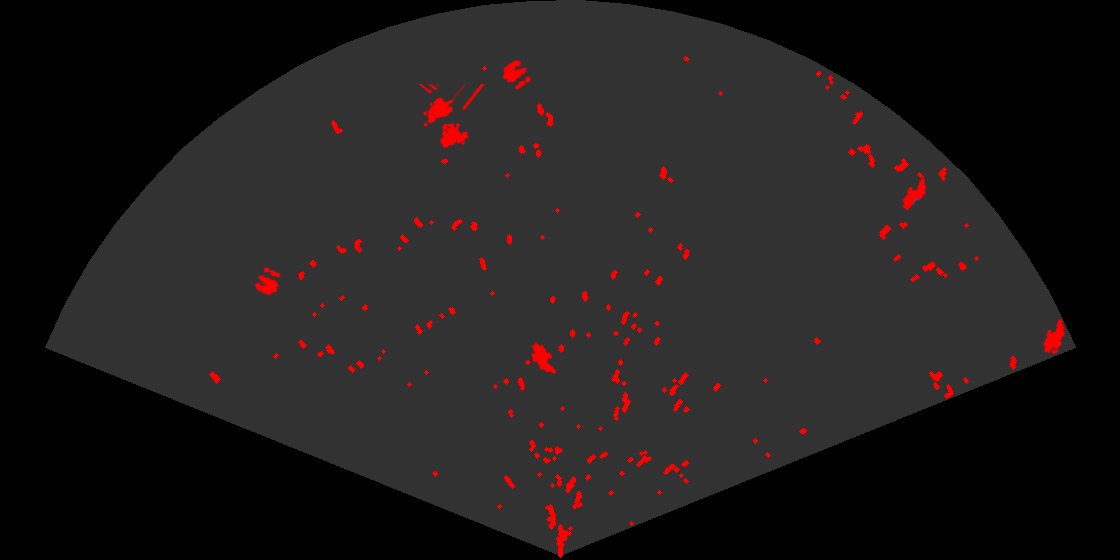AUV: (1041, 317, 1067, 355), (530, 341, 558, 376), (901, 176, 928, 212)
ball: (501, 58, 533, 91), (253, 265, 283, 297)
cage: (417, 84, 486, 150)
